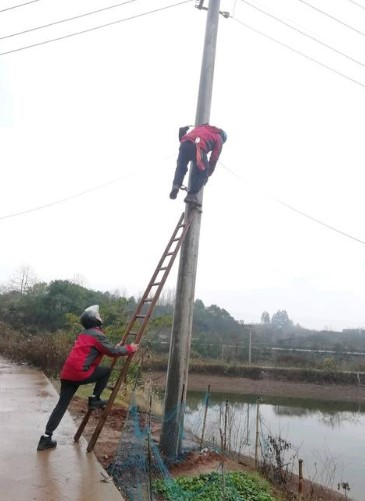安全帽、安全绳均未佩戴的工作人员: (167, 122, 228, 206)
未带安全帽的工作人员: (36, 303, 140, 453)
